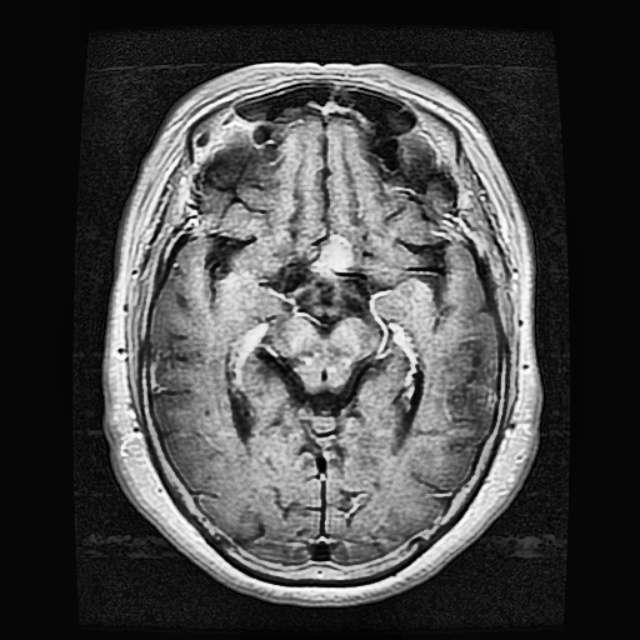Pituitary: (318, 230, 358, 273)
